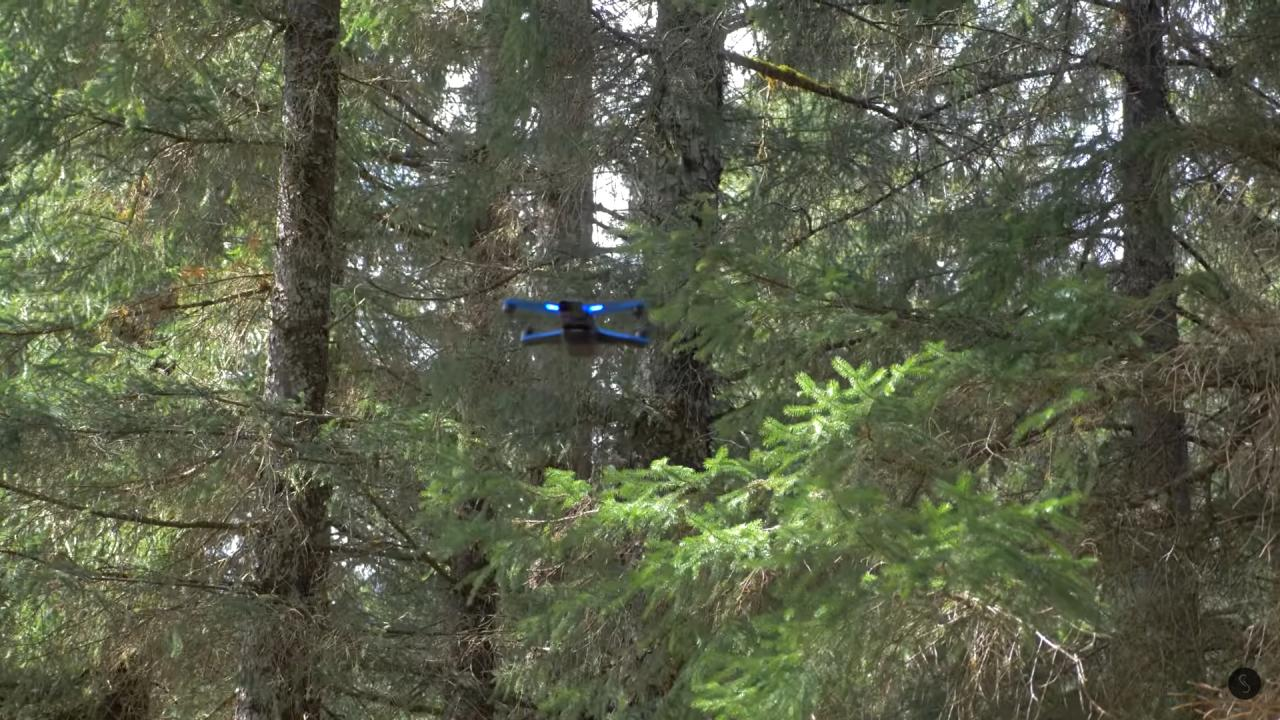Drone: (492, 280, 666, 370)
